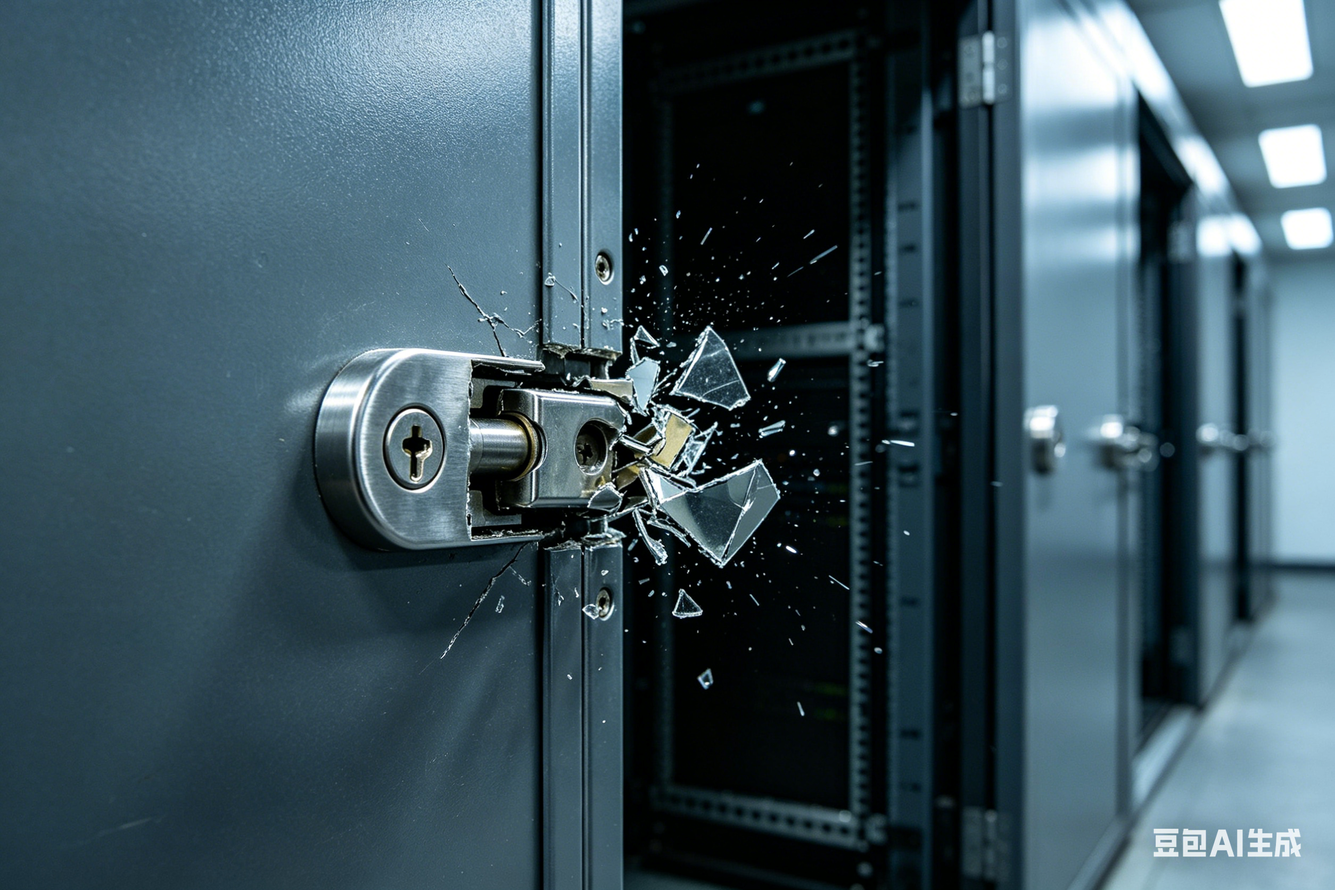BadLock: (451, 355, 792, 547)
